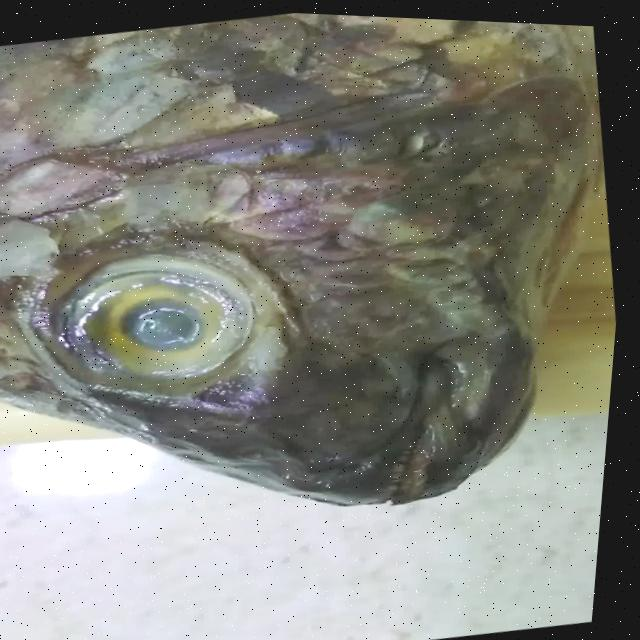Non-Fresh: (51, 225, 278, 403)
